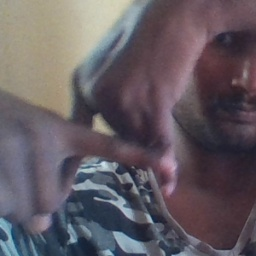H: (43, 77, 181, 211)
